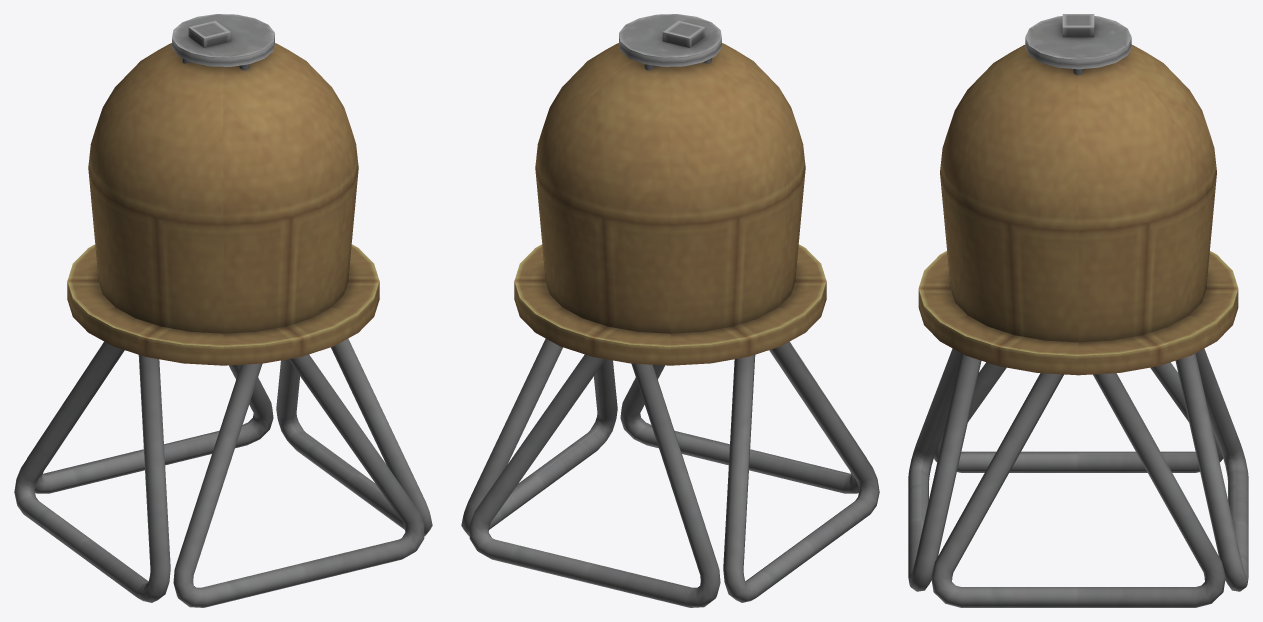
Rendered from 1f_l_avionics_srf_1.obj.
3 renders of one model, left to right at view 1: azimuth 30°, elevation 25°; view 2: azimuth 150°, elevation 25°; view 3: azimuth 270°, elevation 25°, orthographic. The views are drawn at different scales.
Parts seen in each view (by area): view 1: mesh1, legs1; view 2: mesh1, legs1; view 3: mesh1, legs1.
Part boxes in pixels (x1,y1,x2,y2): mesh1: [67, 14, 379, 365]; legs1: [14, 338, 432, 607]; mesh1: [514, 14, 826, 365]; legs1: [461, 338, 879, 607]; mesh1: [918, 14, 1238, 375]; legs1: [908, 348, 1248, 607].
Bounding box in the file's own units: 0.3991 × 0.6621 × 0.3991.
Materials: 2 (2 with a texture image).
